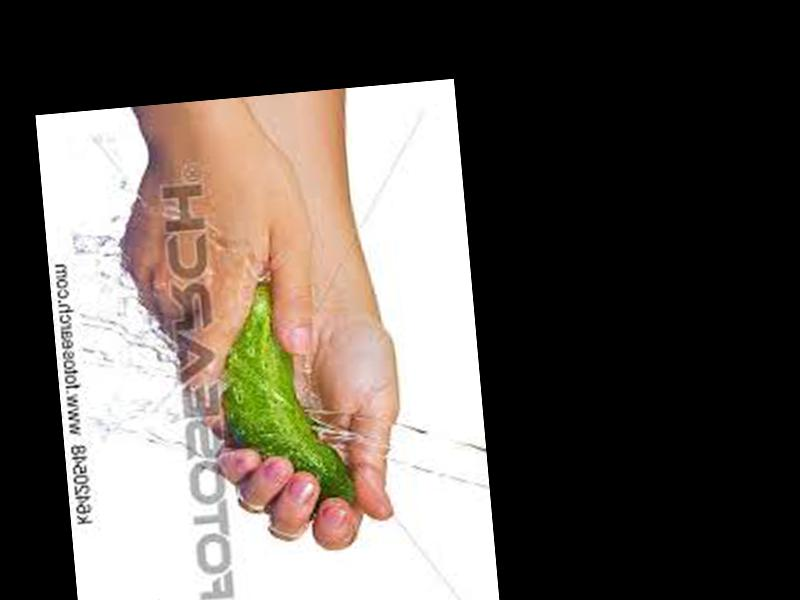Cucumber: (207, 269, 356, 517)
